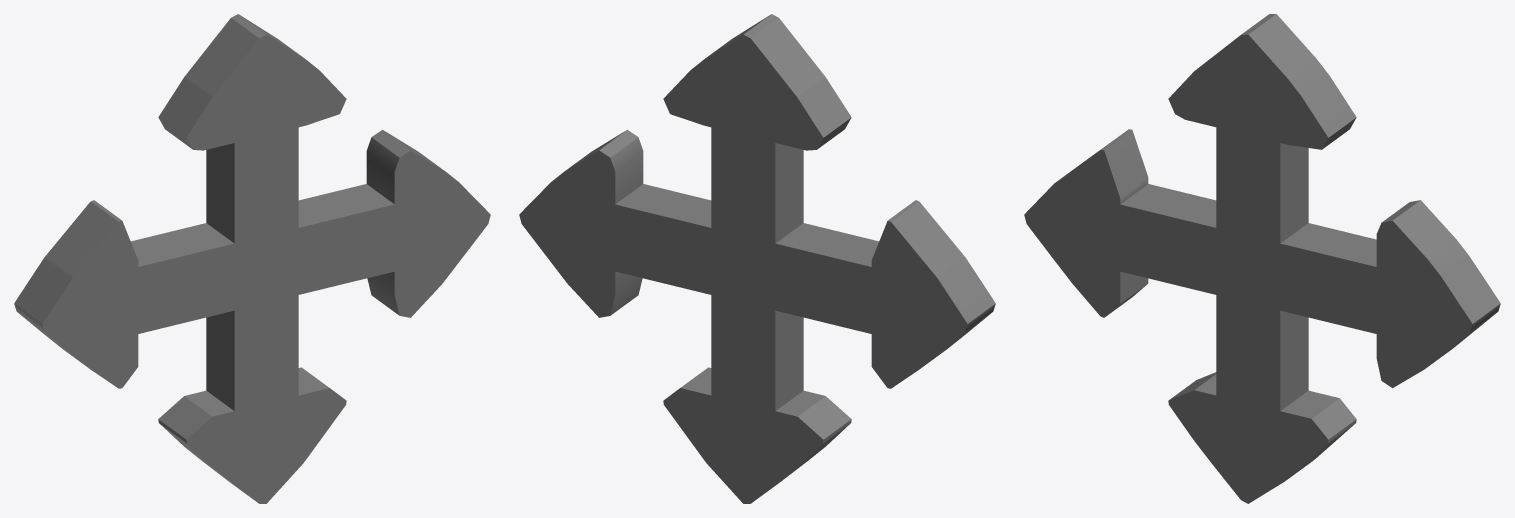
File: fa-arrows.obj
3 views of the same model, side by side, from view 1: azimuth 30°, elevation 25°; view 2: azimuth 150°, elevation 25°; view 3: azimuth 330°, elevation 25° (orthographic).
Bounding box in the file's own units: 1.06 × 1.06 × 0.1152.
Materials: 1 (1 with a texture image).
